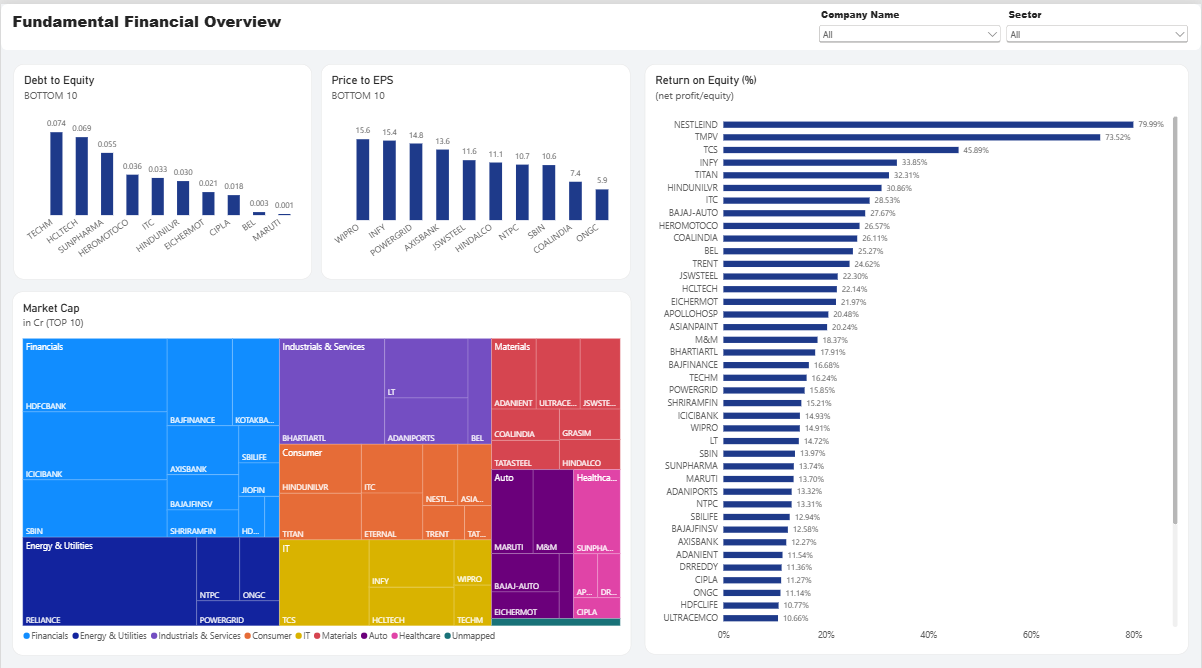

The page's visual inventory and layout, read from the dashboard file:
{"tool":"powerbi","page":{"name":"Page 1Fundamental Financial Overview","canvas":[1920,1080],"ordinal":0},"visuals":[{"type":"shape","box":[0,0,1920,74],"z":0},{"type":"textbox","box":[18,9,472.9,57.1],"z":1000},{"type":"clusteredColumnChart","title":" Debt to Equity","fields":{"Category":["level_1.symbol"],"Y":["Sum(level_1.de)"]},"box":[20,95,477.5,345],"z":2000},{"type":"clusteredColumnChart","title":"Price to EPS","fields":{"Category":["level_1.symbol"],"Y":["Sum(level_1.pe)"]},"box":[512.5,95,495,345],"z":3000},{"type":"treemap","title":"Market Cap","fields":{"Details":["level_1.symbol"],"Group":["level_3_z.sector"],"Values":["Sum(level_1.Market_Cap_Cr)"]},"box":[18,460,990,582],"z":4000},{"type":"clusteredBarChart","title":"Return on Equity (%)","fields":{"Category":["level_1.symbol"],"Y":["Sum(level_1.ROE)"]},"box":[1030,95,870,945],"z":5000},{"type":"slicer","fields":{"Values":["level_1.company_name"]},"box":[1304.2,5,300,75],"z":6000},{"type":"slicer","fields":{"Values":["sector_dim.sector"]},"box":[1604.2,6.7,300,76.7],"z":7000}]}

Visuals, with their boxes in screenshot pixels (x1, y1, x2, y2), scaled from the page's 1920x1080 canvas onto the 1202x668 screenshot:
shape: (0, 0, 1201, 46)
textbox: (11, 6, 307, 41)
" Debt to Equity" clusteredColumnChart: (13, 59, 311, 272)
"Price to EPS" clusteredColumnChart: (321, 59, 631, 272)
"Market Cap" treemap: (11, 285, 631, 644)
"Return on Equity (%)" clusteredBarChart: (645, 59, 1189, 643)
slicer - level_1.company_name: (816, 3, 1004, 49)
slicer - sector_dim.sector: (1004, 4, 1192, 52)
